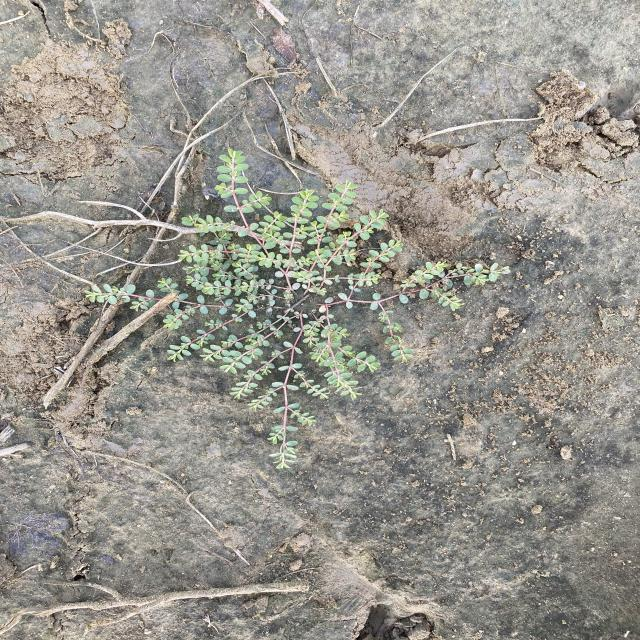SpottedSpurge: (83, 147, 514, 472)
